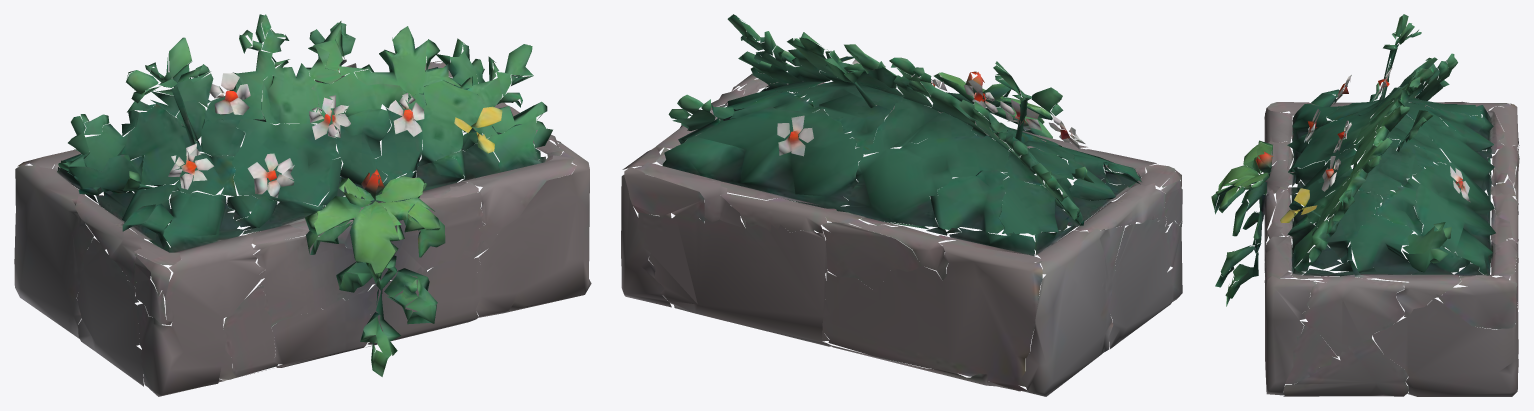
Rendered from green12.glb.
3 renders of one model, left to right at view 1: azimuth 30°, elevation 25°; view 2: azimuth 150°, elevation 25°; view 3: azimuth 270°, elevation 25°, orthographic. The views are drawn at different scales.
Parts seen in each view (by area): view 1: tripo_node_009f4278-8244-426c-8c6e-e7ddb45943b8; view 2: tripo_node_009f4278-8244-426c-8c6e-e7ddb45943b8; view 3: tripo_node_009f4278-8244-426c-8c6e-e7ddb45943b8.
Boxes of the visible parts, x1,y1,x2,y2 form: tripo_node_009f4278-8244-426c-8c6e-e7ddb45943b8: (14,14,591,396); tripo_node_009f4278-8244-426c-8c6e-e7ddb45943b8: (621,14,1182,396); tripo_node_009f4278-8244-426c-8c6e-e7ddb45943b8: (1211,14,1519,396).
Size of the model in its own units: 1.01 by 0.6217 by 0.7047.
Materials: 1 (1 with a texture image).
